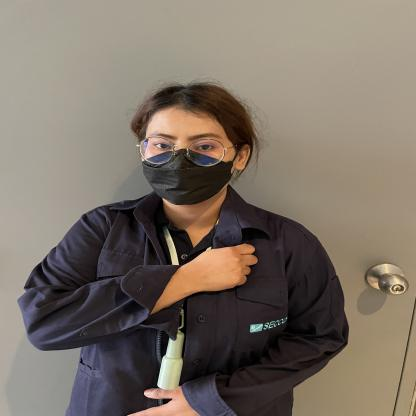Sadness: (28, 227, 303, 335)
